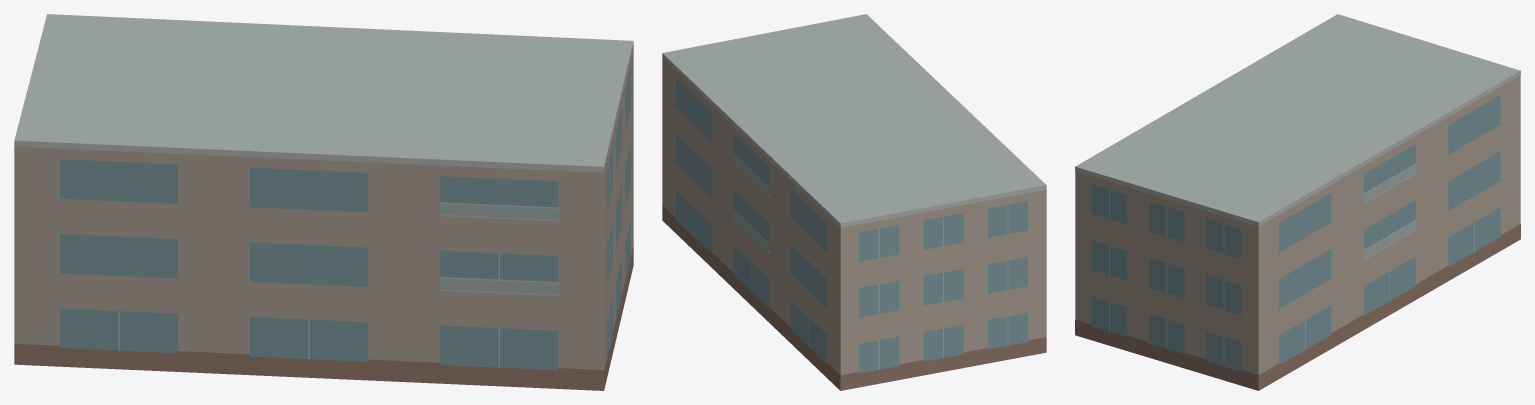
Rendered from survey-upis-32655722.glb.
3 views of the same model, side by side, from view 1: azimuth 30°, elevation 25°; view 2: azimuth 150°, elevation 25°; view 3: azimuth 270°, elevation 25° (orthographic). The views are drawn at different scales.
Parts seen in each view (by area): view 1: survey-upis-32655722.tmp; view 2: survey-upis-32655722.tmp; view 3: survey-upis-32655722.tmp.
Part boxes in pixels (x1,y1,x2,y2): survey-upis-32655722.tmp: [14, 14, 633, 390]; survey-upis-32655722.tmp: [662, 14, 1046, 390]; survey-upis-32655722.tmp: [1075, 14, 1520, 390].
Bounding box in the file's own units: 24.23 × 9.15 × 21.91.
